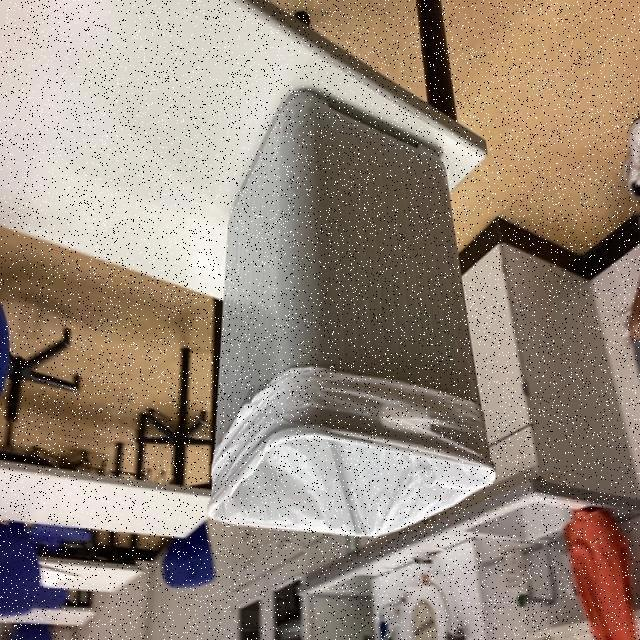garbage container: (172, 57, 508, 574)
